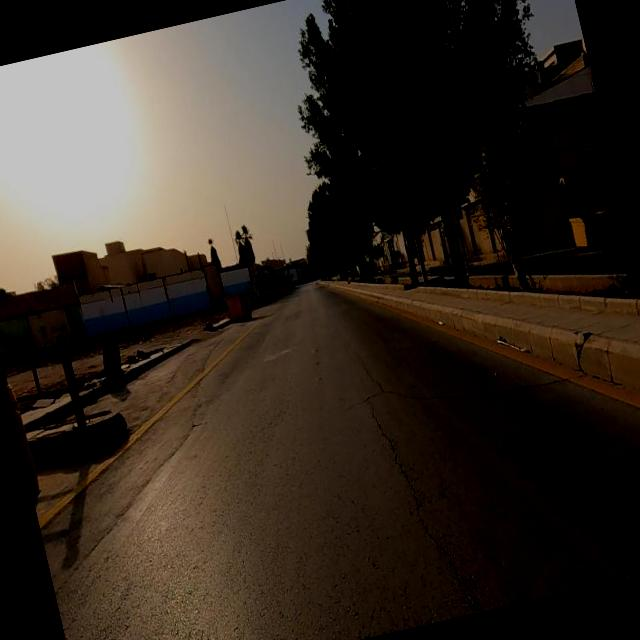debris: (38, 274, 165, 440), (127, 228, 238, 352), (532, 165, 638, 293), (0, 264, 102, 384), (98, 291, 204, 404), (86, 256, 197, 361), (156, 274, 258, 376), (202, 248, 282, 354), (461, 309, 554, 378), (422, 296, 461, 354)
